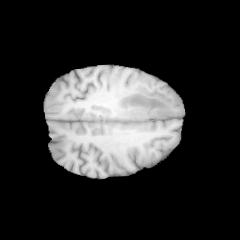glioma: (119, 93, 169, 119)
